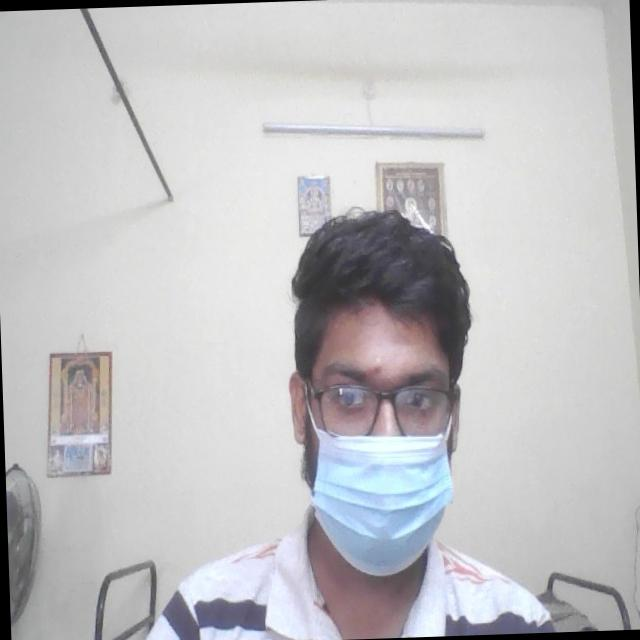Focused: (314, 346, 464, 530)
